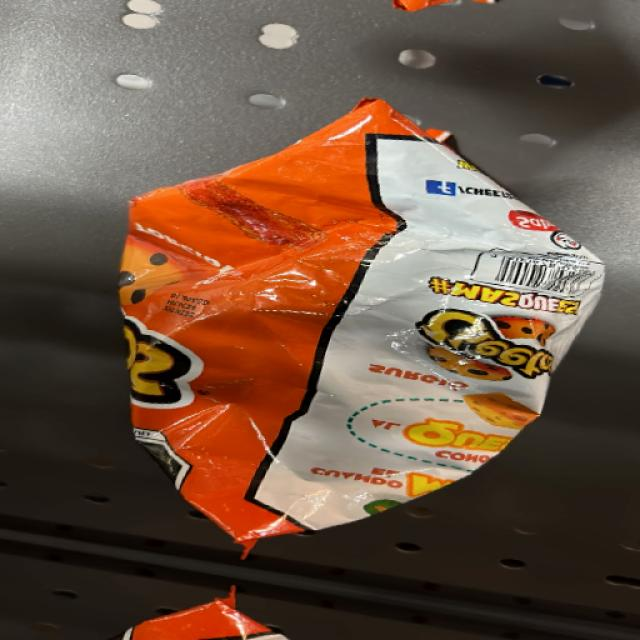cheetosOriginal: (119, 158, 566, 500)
